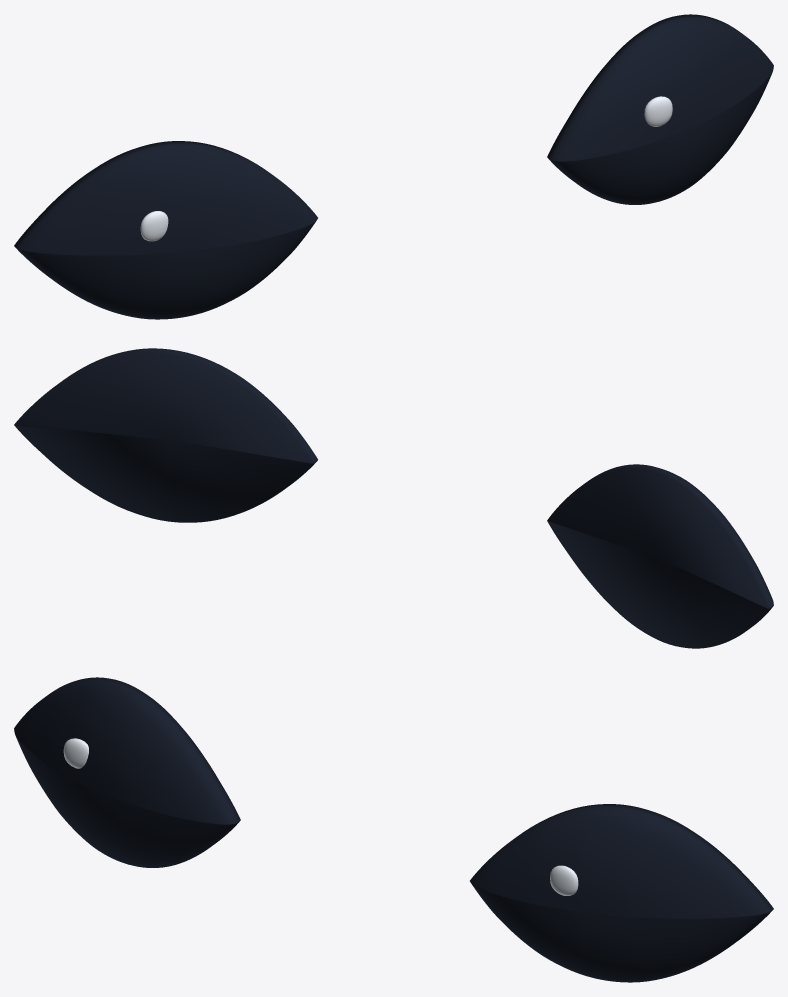
File: Masculine-eyes-almond.glb
3 views of the same model, one above another, from view 1: azimuth 30°, elevation 25°; view 2: azimuth 150°, elevation 25°; view 3: azimuth 330°, elevation 25° (orthographic).
Visible parts, largest first — view 1: Eye / almond -1, Eye / almond 1, Eye highlight / almond 1, Eye highlight / almond -1; view 2: Eye / almond 1, Eye / almond -1; view 3: Eye / almond 1, Eye / almond -1, Eye highlight / almond 1, Eye highlight / almond -1.
Boxes of the visible parts, x1,y1,x2,y2 form: Eye / almond -1: (14,141,317,319); Eye / almond 1: (547,14,773,204); Eye highlight / almond 1: (644,96,672,126); Eye highlight / almond -1: (140,211,168,241); Eye / almond 1: (14,348,317,522); Eye / almond -1: (547,464,773,648); Eye / almond 1: (470,804,773,982); Eye / almond -1: (14,677,240,867); Eye highlight / almond 1: (550,865,578,895); Eye highlight / almond -1: (63,738,88,768).
Size of the model in its own units: 0.458 by 0.099 by 0.0556.
